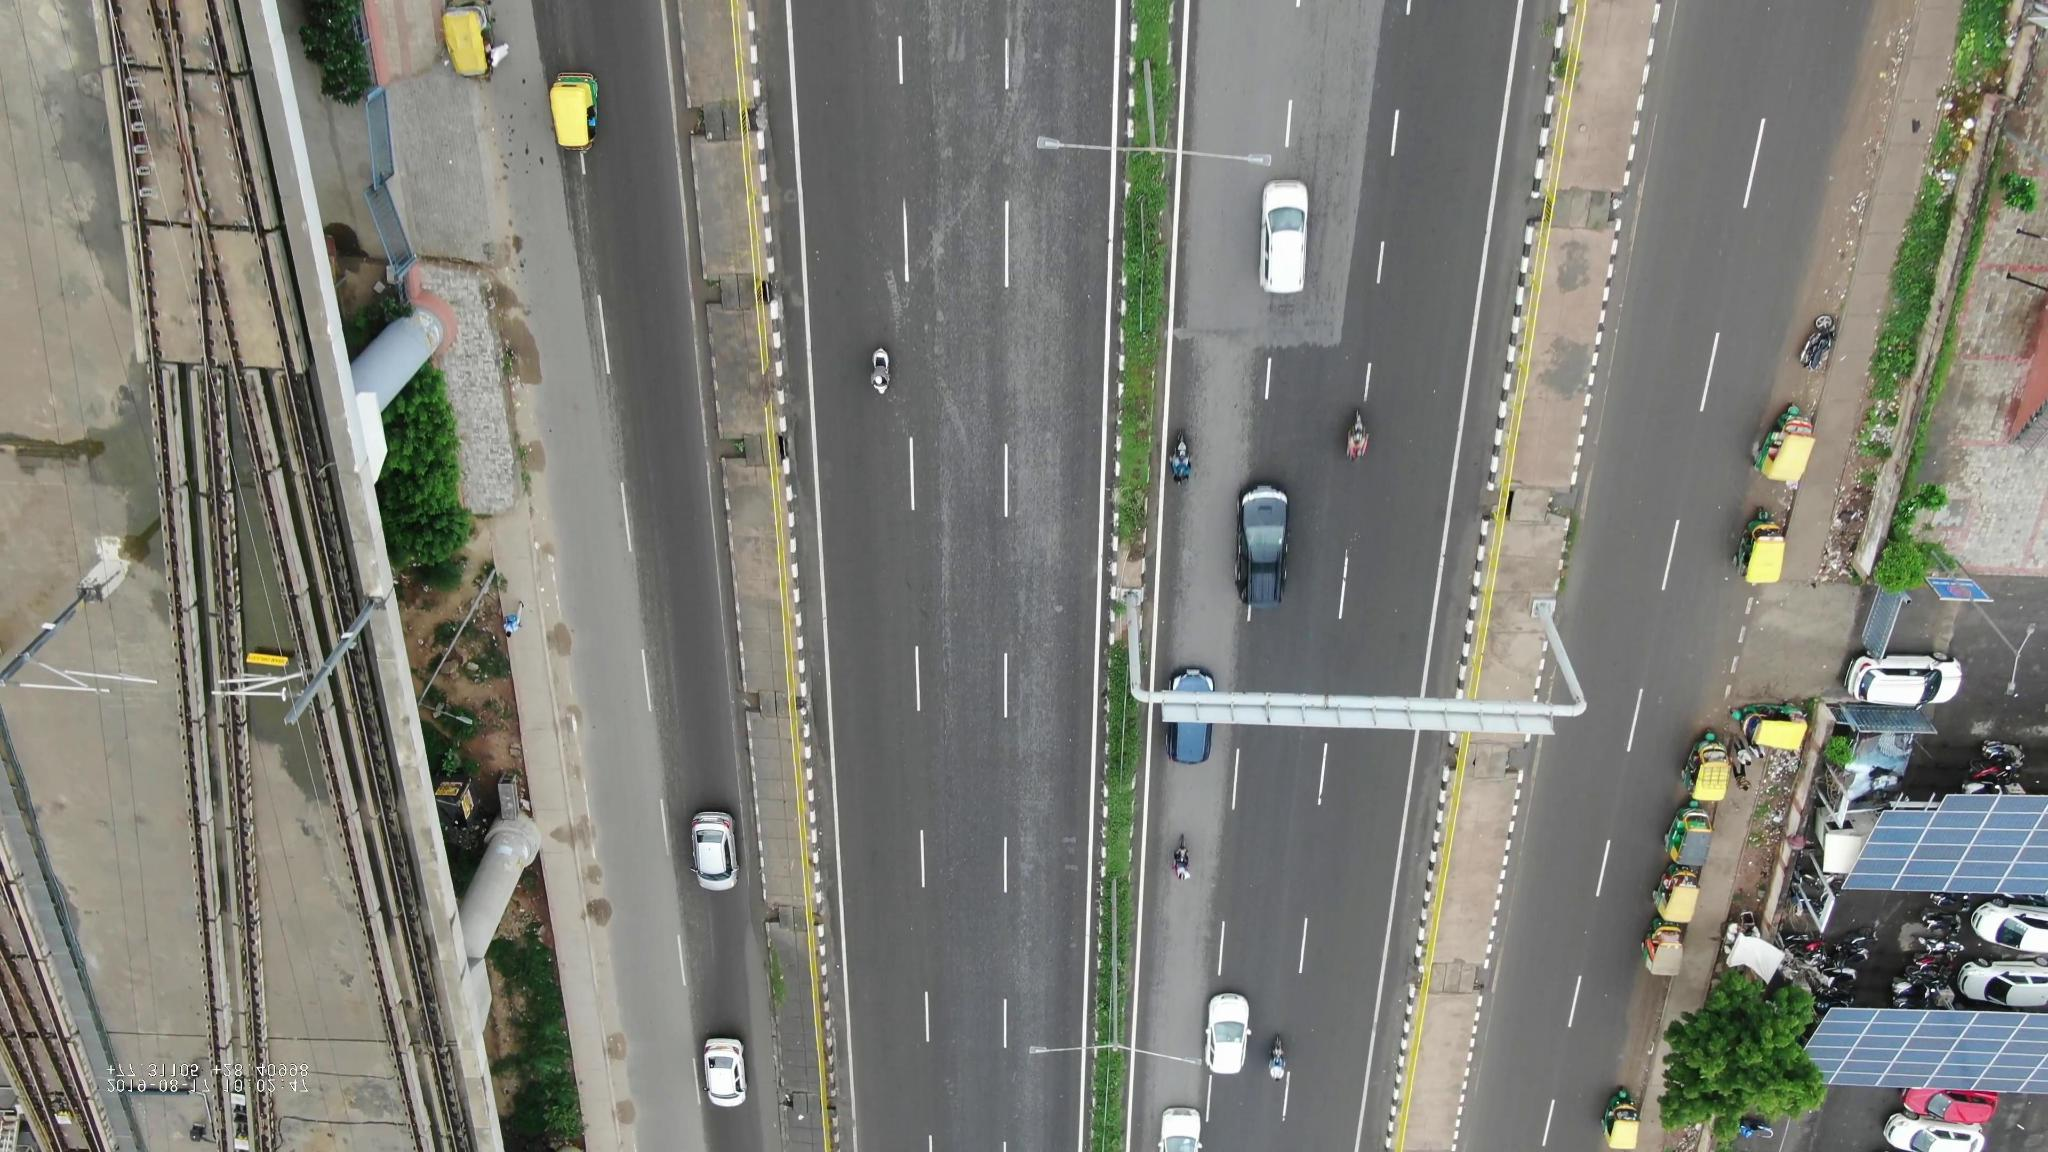Muddy_road: (1803, 41, 1890, 281), (1611, 979, 1665, 1084)
